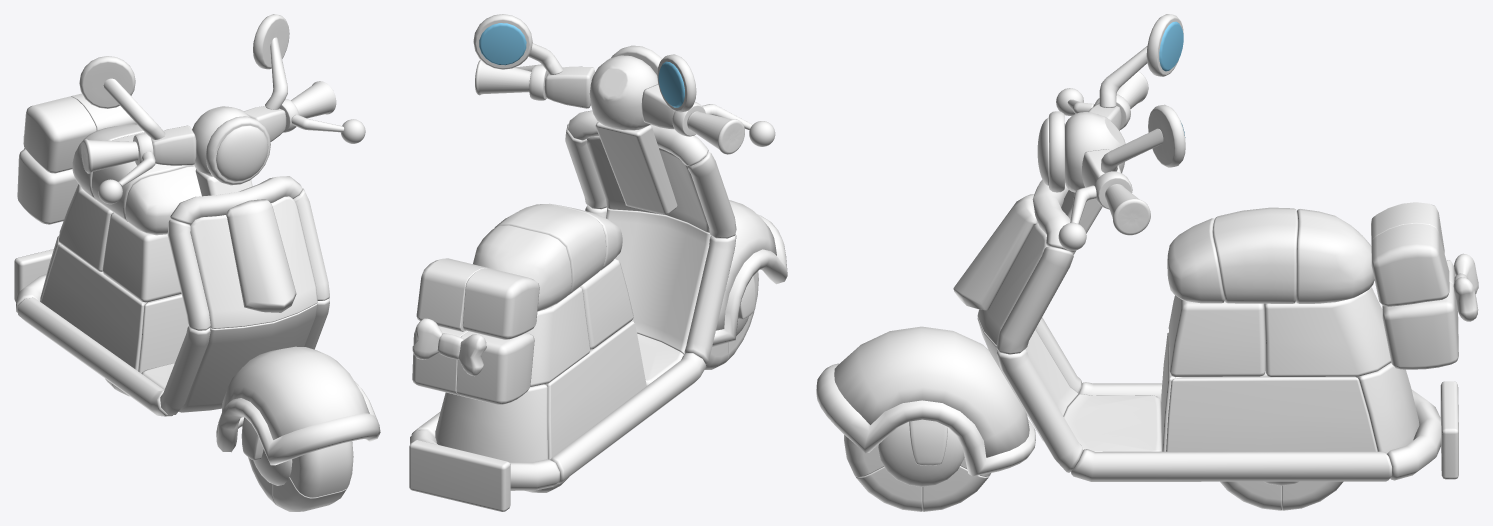
The picture shows the model from 3 angles, left to right: view 1: azimuth 30°, elevation 25°; view 2: azimuth 150°, elevation 25°; view 3: azimuth 270°, elevation 25°; orthographic projection. The views are drawn at different scales.
Visible parts, largest first — view 1: polySurface5473, polySurface5450, polySurface5438, polySurface5451, polySurface5440, polySurface5474, polySurface5436, polySurface5528, polySurface5518, polySurface5459, polySurface5520, polySurface5432 (+32 smaller); view 2: polySurface5440, polySurface5438, polySurface5433, pCube216, polySurface5458, polySurface5528, polySurface5518, pCube218, polySurface5460, polySurface5437, polySurface5520, pSphere217 (+29 smaller); view 3: polySurface5434, polySurface5473, polySurface5448, polySurface5437, polySurface5460, polySurface5436, polySurface5474, polySurface5458, polySurface5519, polySurface5439, polySurface5521, polySurface5451 (+29 smaller).
Boxes of the visible parts, x1,y1,x2,y2 form: polySurface5473: (222,346,369,439); polySurface5450: (190,196,317,328); polySurface5438: (41,244,147,370); polySurface5451: (226,199,296,312); polySurface5440: (179,303,317,412); polySurface5474: (216,381,380,465); polySurface5436: (102,212,181,302); polySurface5528: (17,297,172,416); polySurface5518: (23,96,96,173); polySurface5459: (125,166,201,235); polySurface5520: (17,149,78,224); polySurface5432: (138,294,188,373); polySurface5440: (606,207,710,354); polySurface5438: (544,321,646,459); polySurface5433: (435,384,547,462); pCube216: (409,440,510,511); polySurface5458: (473,225,571,311); polySurface5528: (550,353,706,483); polySurface5518: (462,268,539,339); pCube218: (595,122,677,214); polySurface5460: (494,204,606,295); polySurface5437: (527,287,590,386); polySurface5520: (456,331,534,405); pSphere217: (589,55,657,130); polySurface5434: (1166,375,1377,451); polySurface5473: (834,326,1029,457); polySurface5448: (1071,449,1392,481); polySurface5437: (1264,287,1391,377); polySurface5460: (1212,207,1298,303); polySurface5436: (1168,295,1265,377); polySurface5474: (816,363,1035,476); polySurface5458: (1296,209,1374,303); polySurface5519: (1371,223,1449,306); polySurface5439: (1063,394,1162,451); polySurface5521: (1382,282,1458,369); polySurface5451: (953,194,1037,310).
Bounding box in the file's own units: 411 × 576 × 784.
